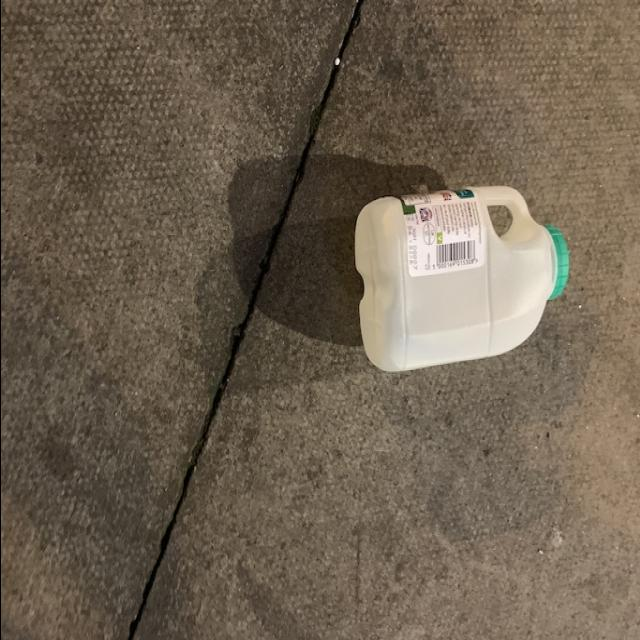HDPEM: (354, 181, 566, 381)
